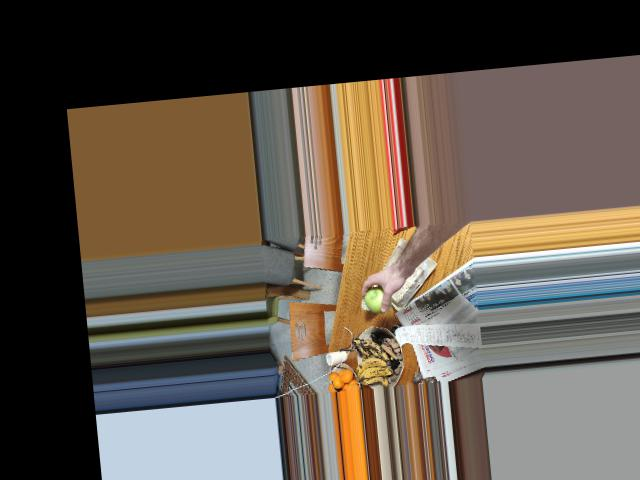apple: (363, 284, 392, 313)
